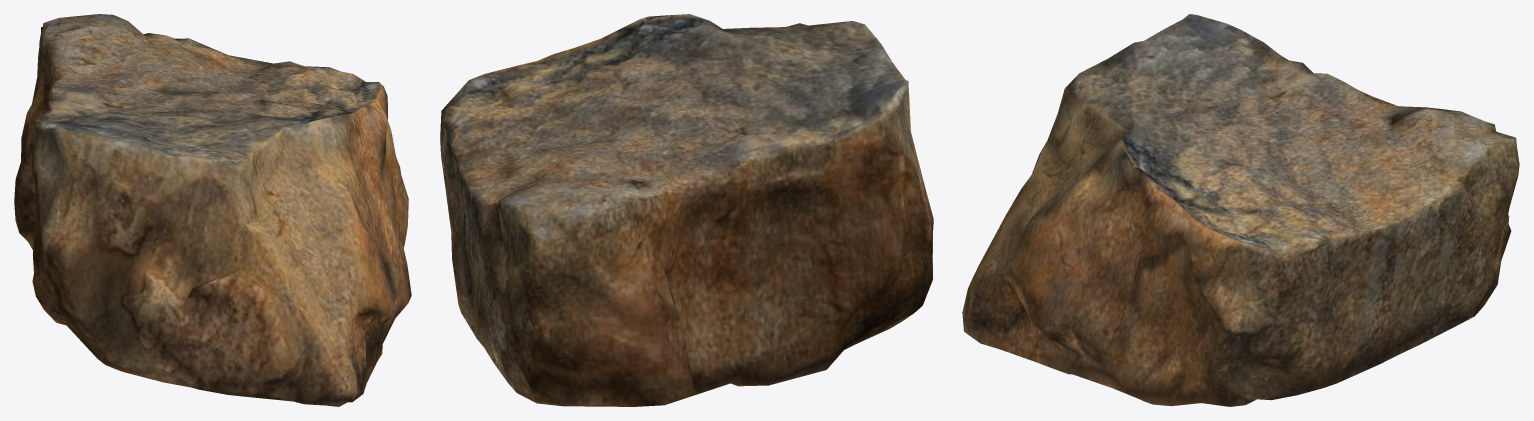
Rendered from namaqualand_boulder_03.glb.
3 views of the same model, side by side, from view 1: azimuth 30°, elevation 25°; view 2: azimuth 150°, elevation 25°; view 3: azimuth 270°, elevation 25° (orthographic). The views are drawn at different scales.
Parts seen in each view (by area): view 1: boulder_03_LOD0; view 2: boulder_03_LOD0; view 3: boulder_03_LOD0.
Part boxes in pixels (x1,y1,x2,y2): boulder_03_LOD0: (14, 14, 411, 406); boulder_03_LOD0: (440, 14, 933, 406); boulder_03_LOD0: (962, 14, 1519, 406).
Bounding box in the file's own units: 2.4 × 1.47 × 3.06.
1 material, 1 textured.
